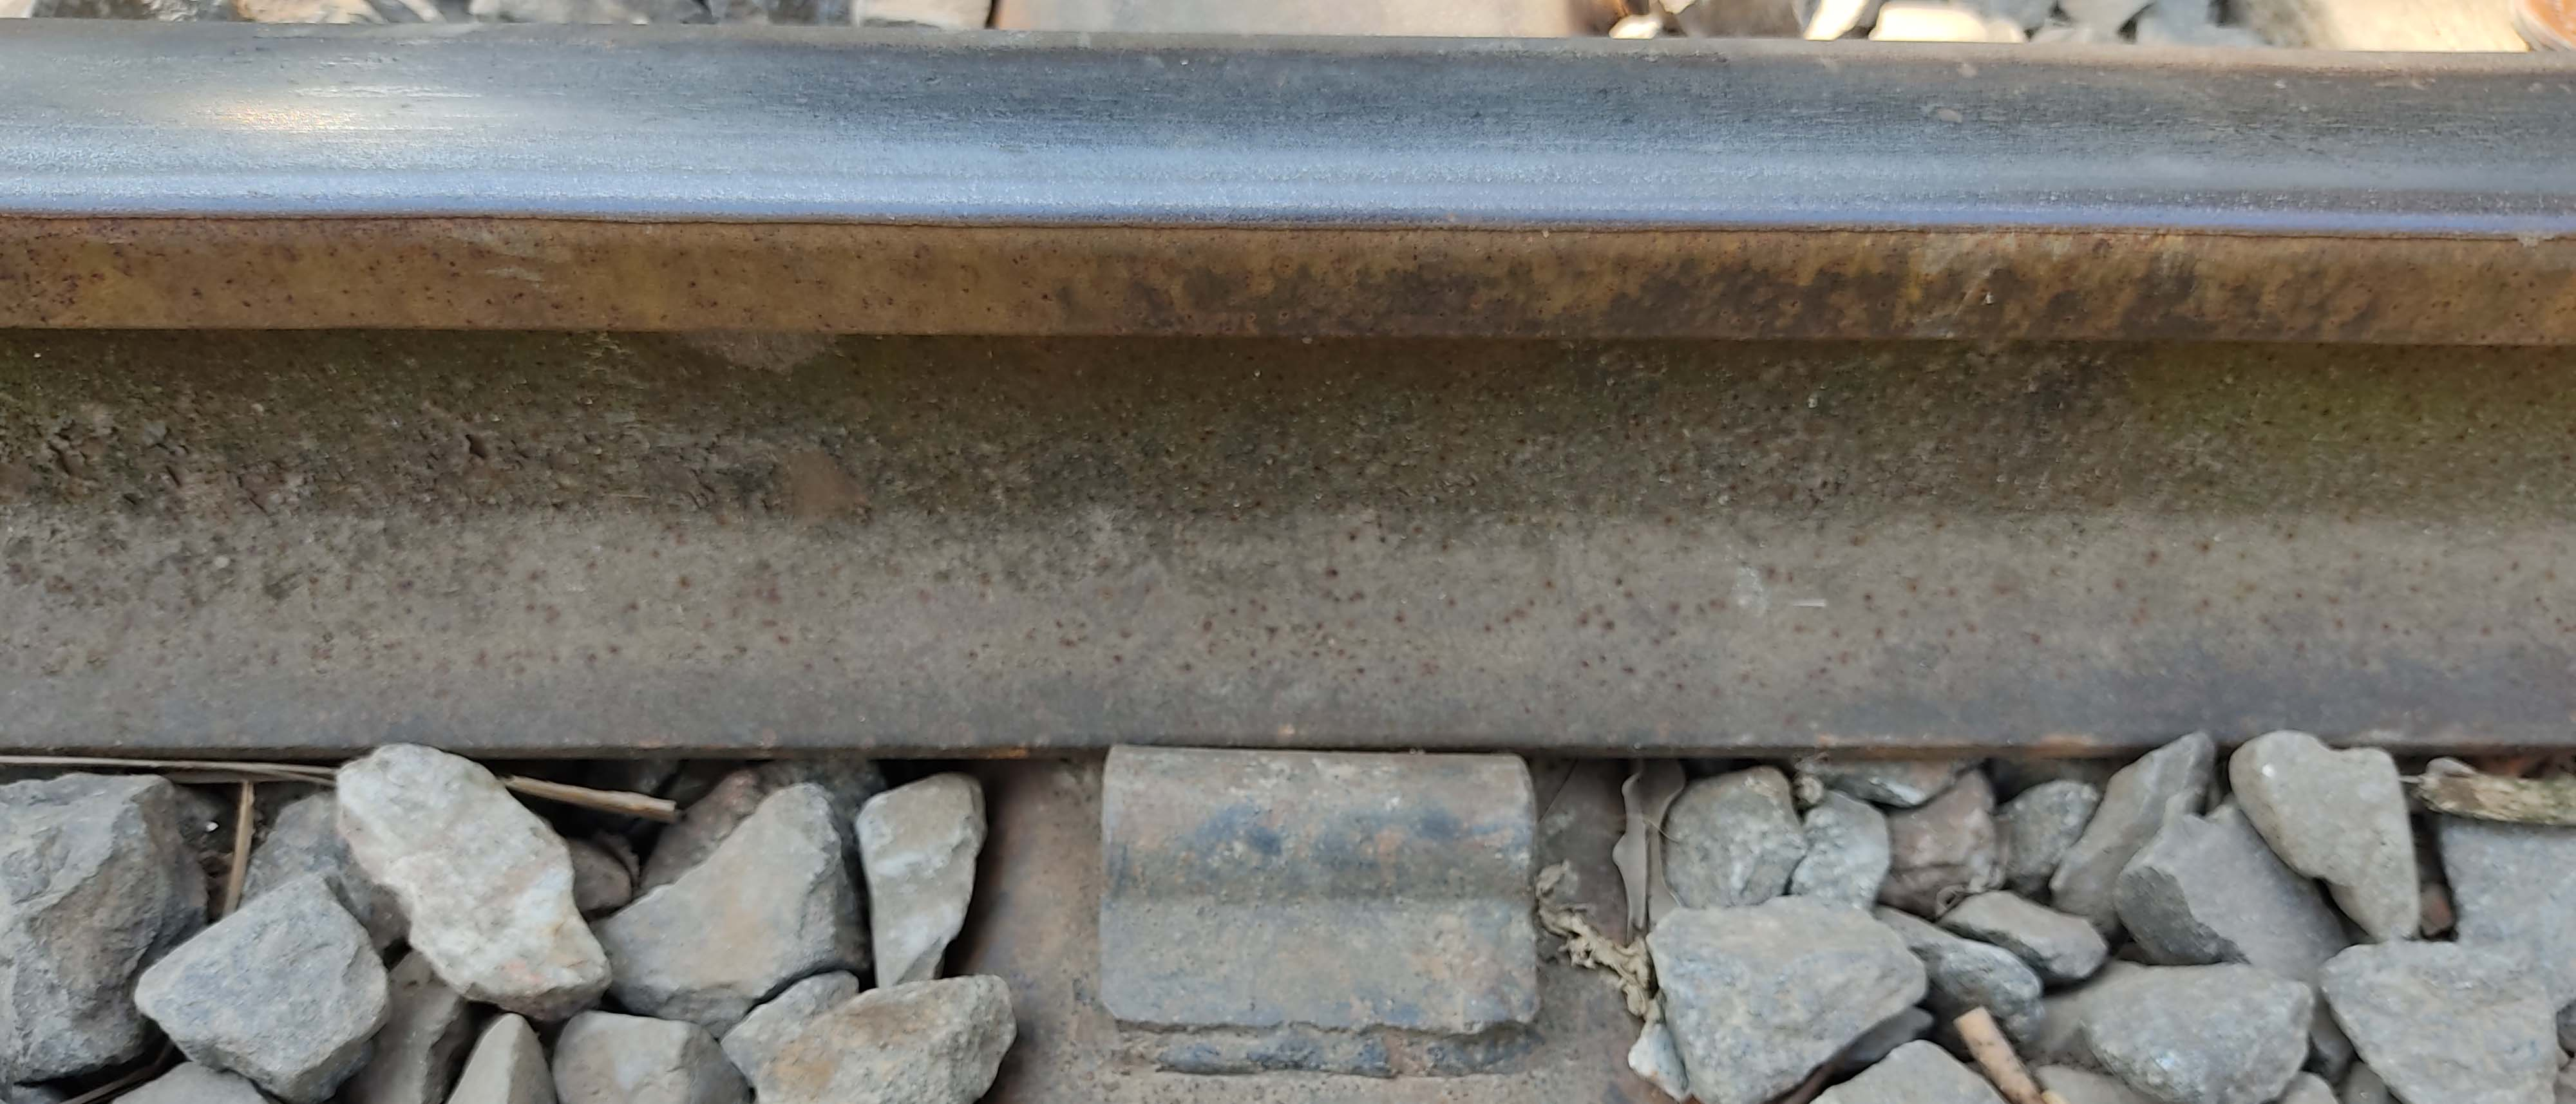error1: (1045, 573, 1608, 1088)
